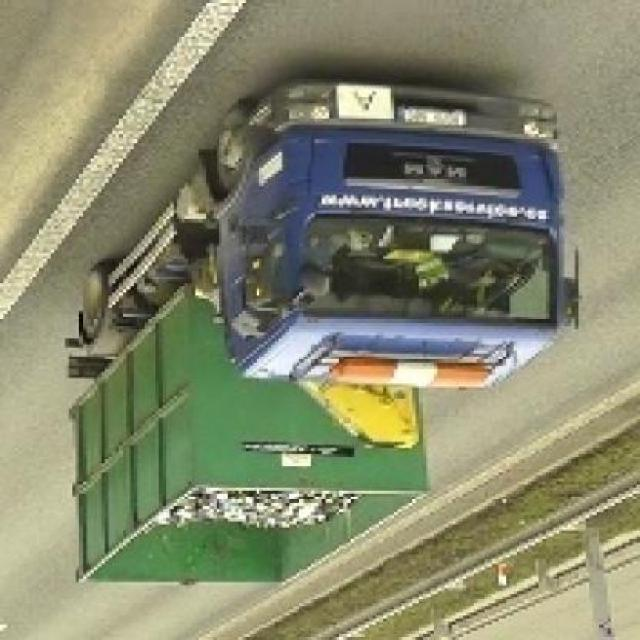truck: (67, 71, 584, 593)
